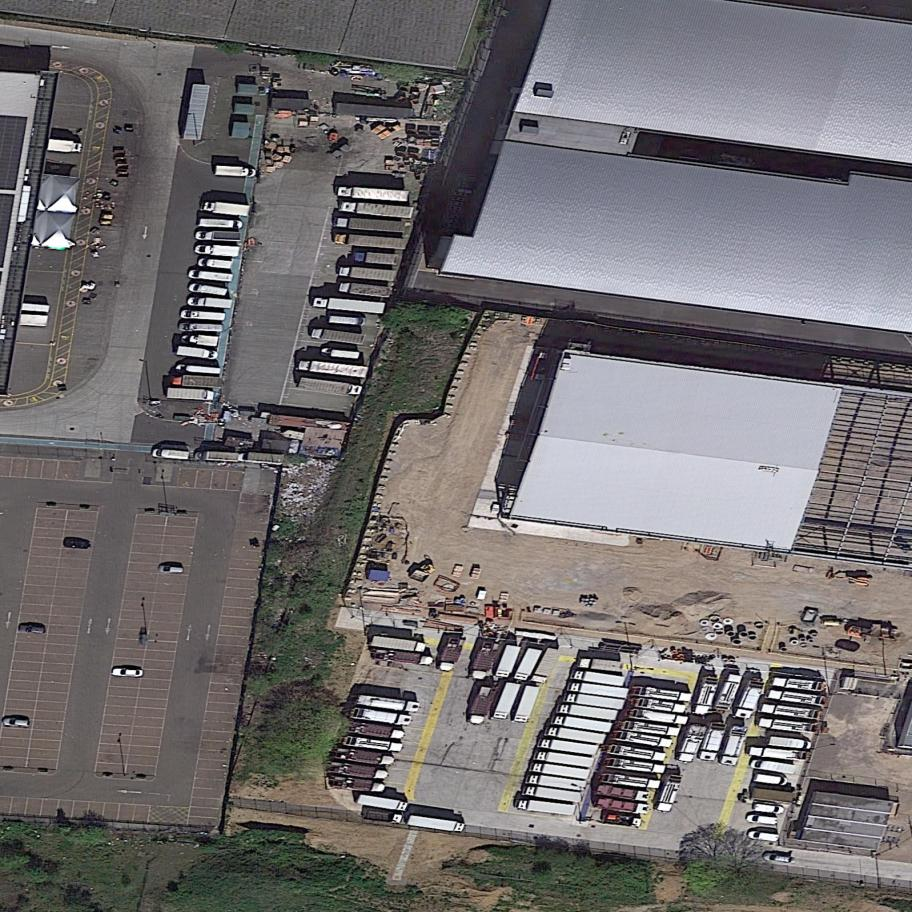large-vehicle: (675, 719, 709, 768), (466, 637, 500, 685), (465, 679, 498, 728), (733, 675, 766, 723), (296, 376, 366, 398), (295, 359, 372, 379), (491, 677, 523, 725), (697, 718, 729, 766), (653, 770, 685, 817), (529, 644, 563, 688), (553, 700, 621, 722), (332, 746, 397, 769), (310, 295, 388, 314), (713, 669, 745, 715), (326, 773, 389, 796), (332, 216, 415, 233), (719, 722, 749, 769), (355, 693, 422, 714), (534, 737, 601, 758), (338, 201, 416, 219), (332, 232, 409, 250), (527, 761, 593, 782), (549, 713, 615, 734), (349, 706, 414, 727), (560, 691, 628, 711), (326, 761, 390, 782), (368, 634, 429, 656), (542, 725, 609, 745), (513, 643, 544, 686), (611, 729, 674, 750), (759, 701, 825, 721), (532, 749, 598, 769), (345, 720, 407, 741), (340, 734, 405, 754), (405, 814, 470, 834), (308, 325, 367, 347), (519, 785, 587, 804), (515, 797, 579, 817), (565, 680, 632, 699), (512, 682, 540, 727), (438, 634, 468, 676), (765, 687, 828, 707), (568, 668, 628, 689), (632, 684, 694, 704), (593, 782, 652, 803), (524, 773, 589, 792), (492, 641, 522, 682), (626, 707, 690, 726), (619, 719, 683, 738), (606, 744, 668, 763), (353, 793, 411, 813), (757, 717, 821, 735), (603, 757, 667, 775), (694, 674, 721, 716), (336, 186, 411, 201), (336, 264, 398, 282), (601, 772, 663, 790), (593, 797, 652, 815), (383, 649, 438, 668), (632, 697, 689, 715), (746, 745, 810, 761), (337, 281, 395, 298), (577, 656, 626, 675), (769, 676, 827, 692), (199, 200, 253, 217), (749, 758, 799, 776), (169, 374, 225, 390), (186, 281, 231, 299), (166, 387, 219, 402), (601, 812, 644, 830), (174, 344, 217, 362), (175, 362, 223, 378), (352, 250, 400, 266), (766, 735, 814, 751), (318, 346, 363, 362), (191, 243, 242, 257), (178, 308, 227, 322), (187, 296, 235, 310), (198, 217, 245, 231), (181, 332, 222, 348), (364, 809, 404, 825), (186, 269, 235, 282), (177, 321, 226, 334), (239, 451, 284, 465), (215, 164, 260, 178), (46, 139, 86, 154), (194, 257, 235, 271), (193, 231, 243, 242), (151, 448, 191, 460), (195, 452, 239, 462)
small-vehicle: (762, 852, 797, 866), (753, 773, 789, 786), (745, 813, 779, 826), (747, 830, 780, 843), (327, 316, 366, 326), (762, 853, 797, 864), (753, 803, 785, 815), (111, 667, 144, 678), (63, 539, 90, 550), (2, 718, 31, 728), (18, 625, 46, 635), (159, 565, 184, 574)
